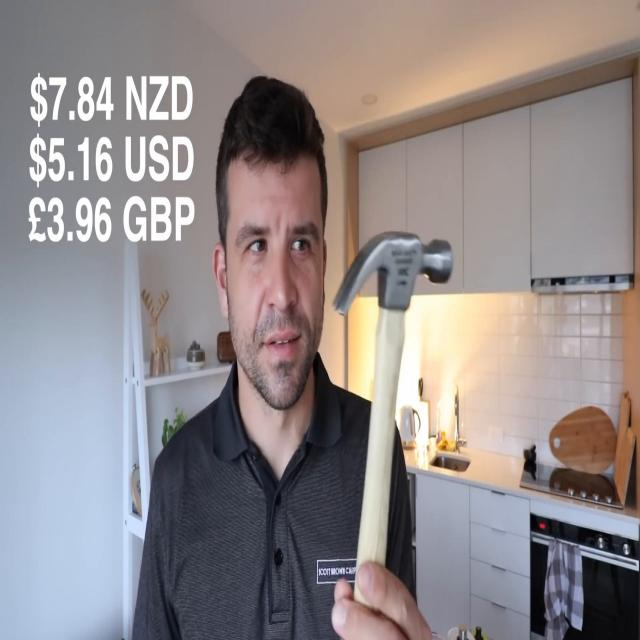hammer: (328, 226, 455, 640)
